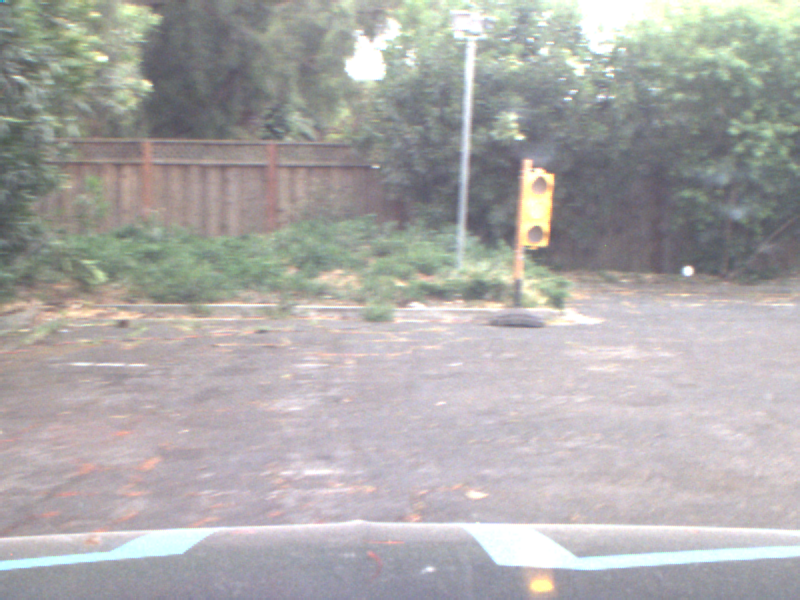Yellow: (521, 168, 551, 248)
